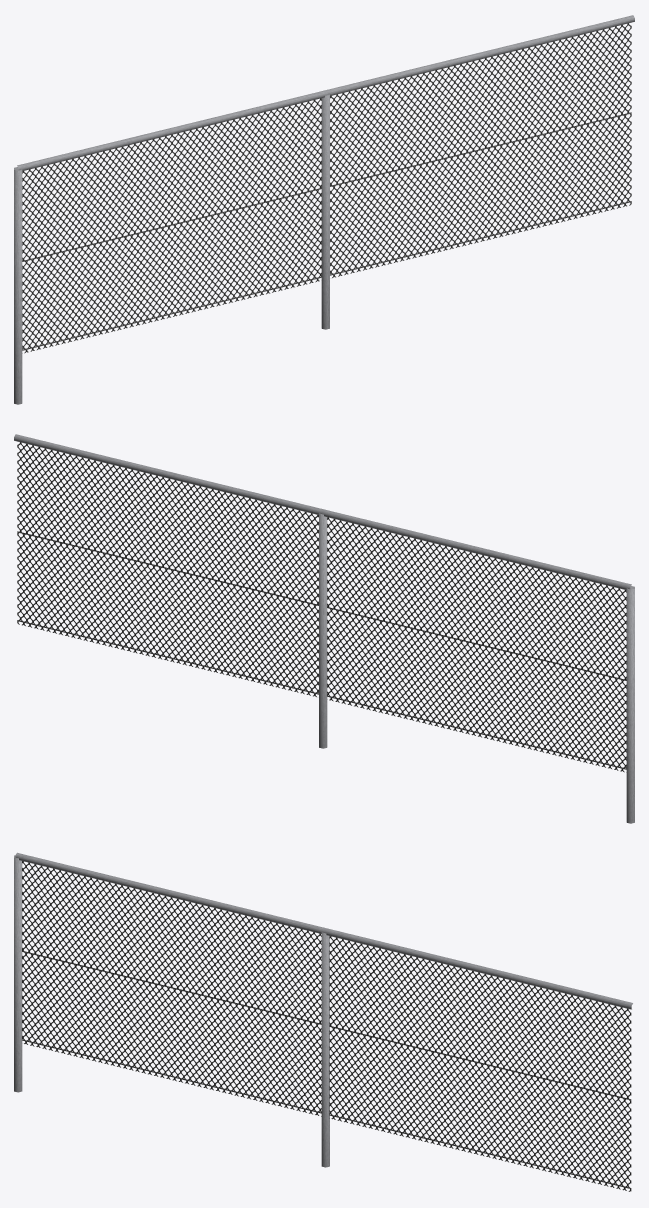
File: fence-tall-chainlink-1rail-2s-cbj_LOD01.gltf
The picture shows the model from 3 angles, top to bottom: view 1: azimuth 30°, elevation 25°; view 2: azimuth 150°, elevation 25°; view 3: azimuth 330°, elevation 25°; orthographic projection.
Visible parts, largest first — view 1: cube01; view 2: cube01; view 3: cube01.
Part boxes in pixels (bbox=[...]): cube01: bbox=[14, 15, 634, 404]; cube01: bbox=[14, 434, 634, 823]; cube01: bbox=[14, 852, 632, 1191].
Bounding box in the file's own units: 6.24 × 2.3 × 0.0727.
